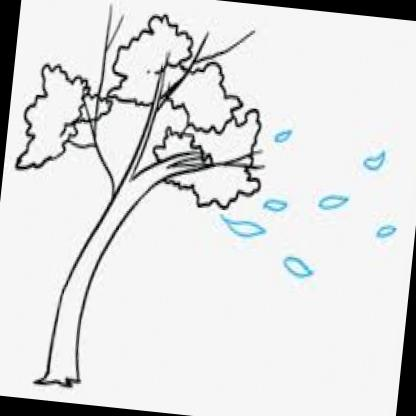branch_line: (66, 4, 276, 216)
crown_cloud: (10, 0, 276, 213)
trunk_reflex: (49, 232, 115, 342)
